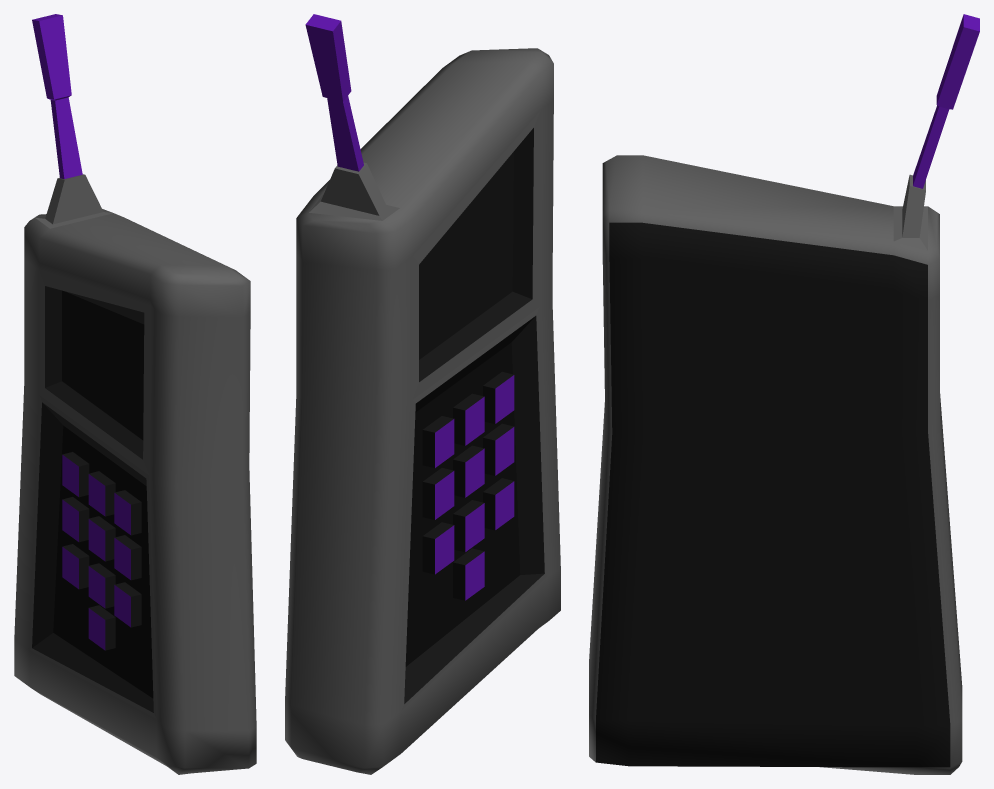
The model's file is Keypad4.fbx.
3 renders of one model, left to right at view 1: azimuth 30°, elevation 25°; view 2: azimuth 150°, elevation 25°; view 3: azimuth 270°, elevation 25°, orthographic. The views are drawn at different scales.
Visible parts, largest first — view 1: Keypad; view 2: Keypad; view 3: Keypad.
Part boxes in pixels (x1=…): Keypad: x1=14, y1=14, x2=256, y2=774; Keypad: x1=285, y1=14, x2=560, y2=774; Keypad: x1=589, y1=14, x2=979, y2=774.
Size of the model in its own units: 9.22 by 67.34 by 32.38.
